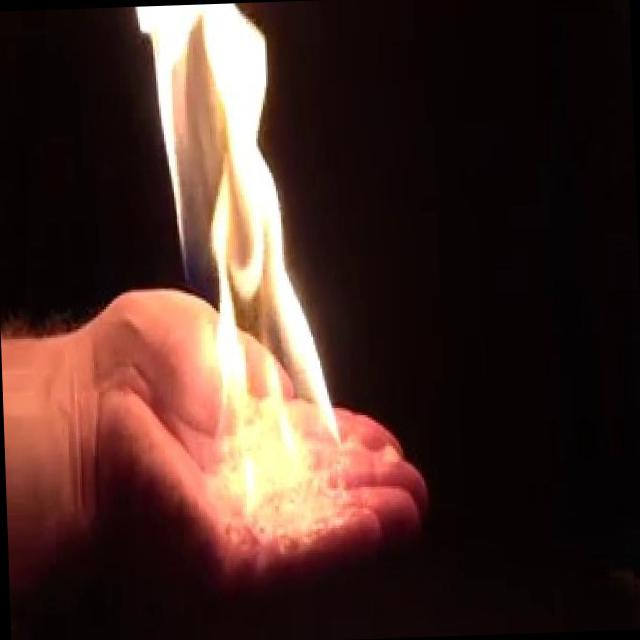Fire: (134, 0, 353, 511)
